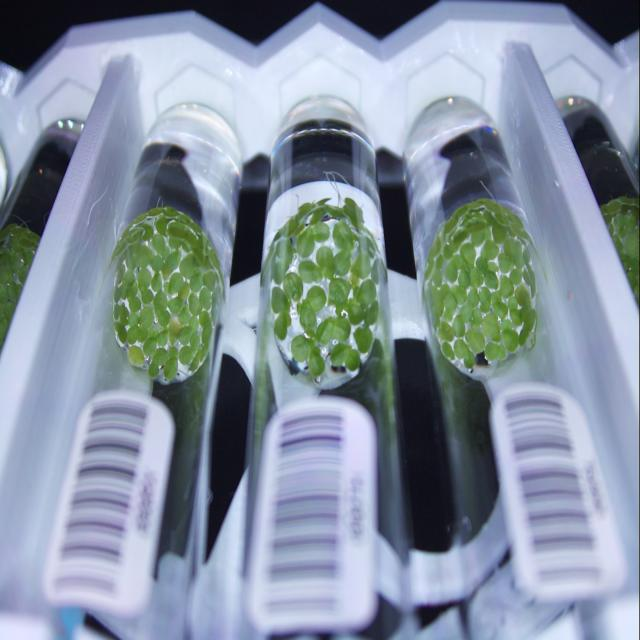Lemna-Gibba: (271, 235, 294, 285), (271, 287, 291, 340), (342, 197, 364, 232), (336, 299, 365, 325), (444, 230, 469, 259), (451, 269, 470, 305), (504, 237, 525, 269), (126, 245, 154, 269), (332, 220, 354, 250), (454, 339, 475, 369), (351, 252, 371, 283), (354, 279, 376, 307), (316, 245, 334, 279), (329, 277, 350, 306), (296, 227, 315, 259), (282, 272, 302, 302), (429, 280, 444, 319), (429, 225, 446, 259), (512, 215, 532, 243), (522, 262, 536, 302), (299, 260, 322, 284), (306, 285, 326, 312), (291, 335, 311, 362), (354, 325, 374, 352), (481, 314, 500, 342), (315, 317, 334, 345), (460, 265, 482, 289), (299, 299, 316, 330), (491, 290, 509, 319), (309, 347, 325, 379), (465, 329, 485, 354), (320, 202, 345, 222), (179, 254, 199, 279), (151, 233, 170, 259), (334, 248, 351, 277), (514, 307, 536, 329), (330, 344, 351, 367), (356, 233, 376, 257), (119, 270, 135, 299), (332, 317, 350, 342), (484, 342, 506, 362), (514, 284, 531, 308), (471, 227, 491, 247), (162, 357, 178, 382), (502, 329, 519, 352), (311, 222, 330, 242), (199, 310, 212, 339), (364, 300, 379, 325), (128, 345, 145, 367), (481, 240, 499, 260), (139, 305, 154, 329), (460, 243, 476, 265), (165, 248, 181, 270), (191, 237, 204, 264), (465, 218, 488, 233), (151, 347, 168, 367), (168, 317, 181, 343), (444, 292, 456, 320), (500, 275, 514, 299), (439, 320, 454, 342), (138, 267, 151, 292), (479, 287, 491, 314), (168, 220, 186, 238), (114, 237, 132, 255), (496, 205, 512, 225), (179, 345, 195, 365), (152, 292, 168, 312), (345, 349, 360, 370), (169, 272, 184, 293), (114, 322, 128, 344), (126, 227, 145, 243), (484, 270, 499, 290), (499, 254, 514, 274), (179, 325, 194, 345), (445, 260, 458, 283), (168, 225, 181, 248), (188, 294, 202, 315), (492, 225, 508, 243), (452, 315, 465, 337), (444, 213, 459, 232), (441, 340, 455, 360), (284, 217, 298, 237), (202, 270, 216, 290), (468, 287, 480, 310), (199, 287, 211, 310), (190, 269, 202, 292), (424, 254, 434, 280), (459, 304, 472, 324), (196, 344, 209, 364), (155, 215, 168, 235), (156, 310, 171, 327), (126, 295, 141, 312), (142, 337, 156, 355), (117, 304, 129, 325), (475, 255, 488, 274), (209, 248, 220, 270), (200, 232, 210, 256), (310, 208, 324, 225), (168, 297, 182, 314), (141, 222, 154, 240), (115, 264, 125, 287), (481, 198, 500, 210), (298, 202, 315, 215), (151, 255, 164, 272), (508, 215, 519, 235), (471, 309, 482, 329), (349, 272, 360, 292), (151, 272, 162, 292), (482, 208, 494, 226), (510, 307, 522, 325), (178, 282, 190, 300), (290, 222, 304, 237), (180, 213, 195, 227), (179, 305, 190, 324), (128, 325, 139, 344), (509, 269, 522, 285), (454, 203, 471, 215), (188, 317, 200, 334), (520, 325, 530, 345), (371, 259, 379, 284), (161, 264, 174, 279), (452, 254, 464, 270), (181, 235, 191, 254), (185, 230, 196, 247), (141, 289, 154, 303), (464, 208, 482, 218), (432, 269, 442, 287), (202, 257, 214, 272), (160, 207, 178, 217), (294, 207, 305, 223), (158, 329, 169, 345), (274, 225, 286, 239), (148, 364, 159, 379), (430, 312, 439, 330), (190, 334, 200, 350), (148, 207, 164, 217), (488, 215, 500, 228), (501, 320, 514, 332), (488, 260, 499, 274), (508, 295, 518, 310), (190, 357, 200, 372), (138, 327, 148, 342), (114, 285, 121, 304), (441, 284, 451, 297), (522, 247, 530, 263), (522, 269, 530, 285), (436, 254, 444, 270), (168, 347, 178, 359), (128, 284, 138, 296), (192, 223, 202, 235), (149, 325, 159, 336), (129, 314, 139, 325), (201, 332, 210, 343), (135, 213, 146, 222), (309, 335, 315, 351), (114, 304, 120, 320), (306, 329, 315, 339), (470, 200, 481, 208), (164, 282, 171, 294), (318, 198, 329, 205), (125, 223, 132, 231), (461, 220, 470, 225)
